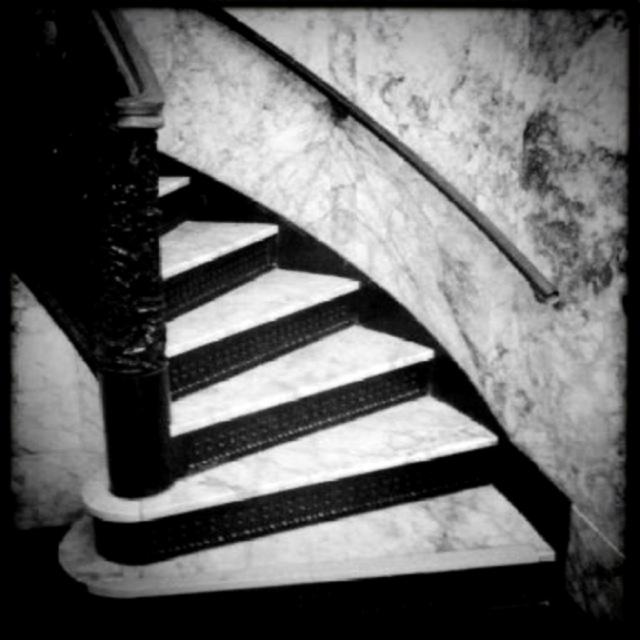stair: (61, 177, 557, 640)
